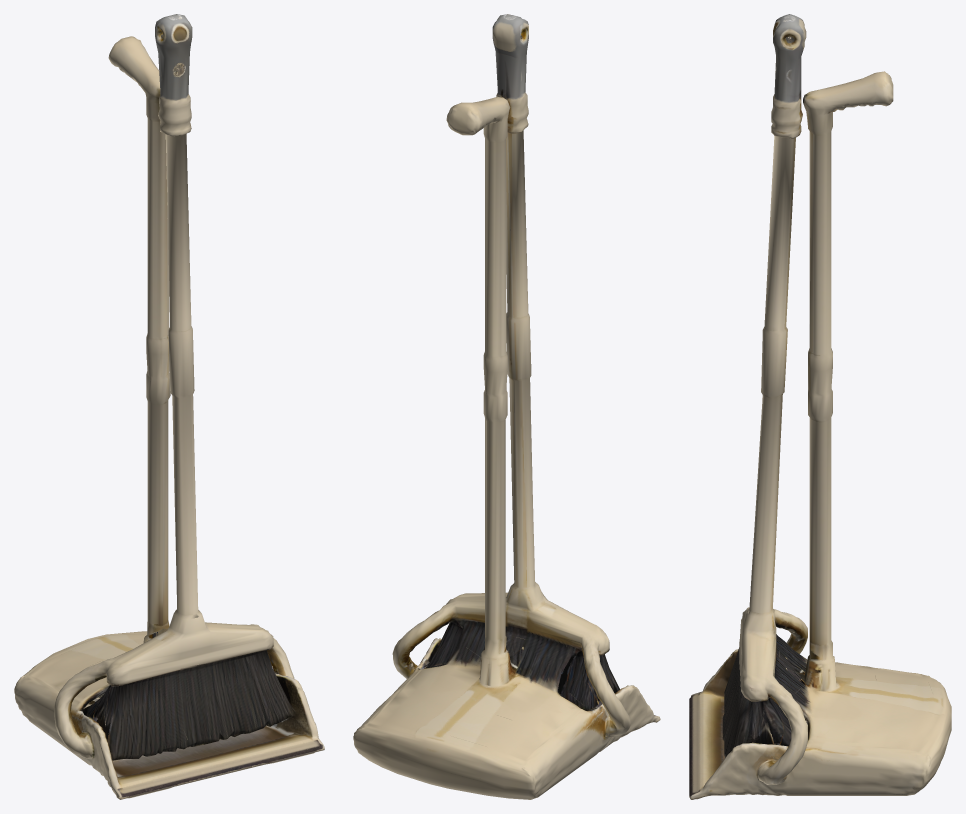
The model's file is Meshy_AI_Broom_and_Dustpan_Set_0105203936_texture.fbx.
3 views of the same model, side by side, from view 1: azimuth 30°, elevation 25°; view 2: azimuth 150°, elevation 25°; view 3: azimuth 270°, elevation 25° (orthographic). The views are drawn at different scales.
Parts seen in each view (by area): view 1: Mesh_0; view 2: Mesh_0; view 3: Mesh_0.
Part boxes in pixels (x1,y1,x2,y2): Mesh_0: [14, 14, 324, 799]; Mesh_0: [353, 14, 660, 799]; Mesh_0: [689, 14, 951, 799].
Bounding box in the file's own units: 63.8 × 191 × 61.45.
Materials: 1 (1 with a texture image).
